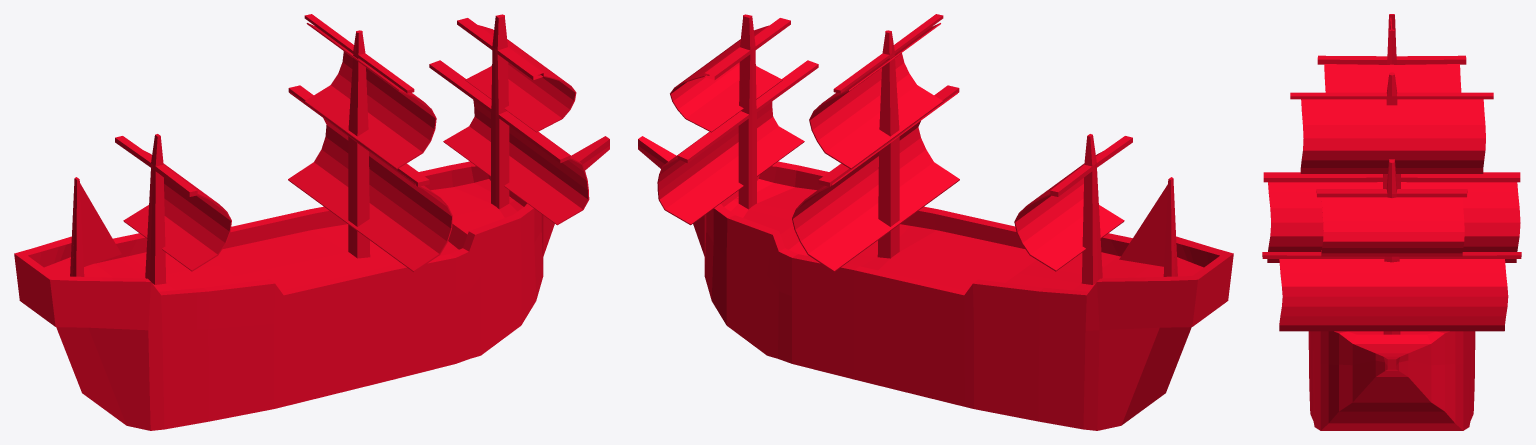
File: galleon_illegal.glb
The picture shows the model from 3 angles, left to right: view 1: azimuth 30°, elevation 25°; view 2: azimuth 150°, elevation 25°; view 3: azimuth 270°, elevation 25°; orthographic projection.
Parts seen in each view (by area): view 1: Ship_illegal; view 2: Ship_illegal; view 3: Ship_illegal.
Part boxes in pixels (left/top/right/bottom): Ship_illegal: left=14, top=14, right=609, bottom=430; Ship_illegal: left=638, top=14, right=1233, bottom=430; Ship_illegal: left=1262, top=14, right=1521, bottom=430.
Size of the model in its own units: 14.25 by 7.46 by 5.6.
